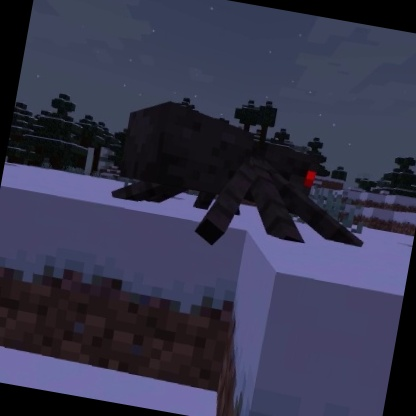spider: (100, 91, 385, 275)
